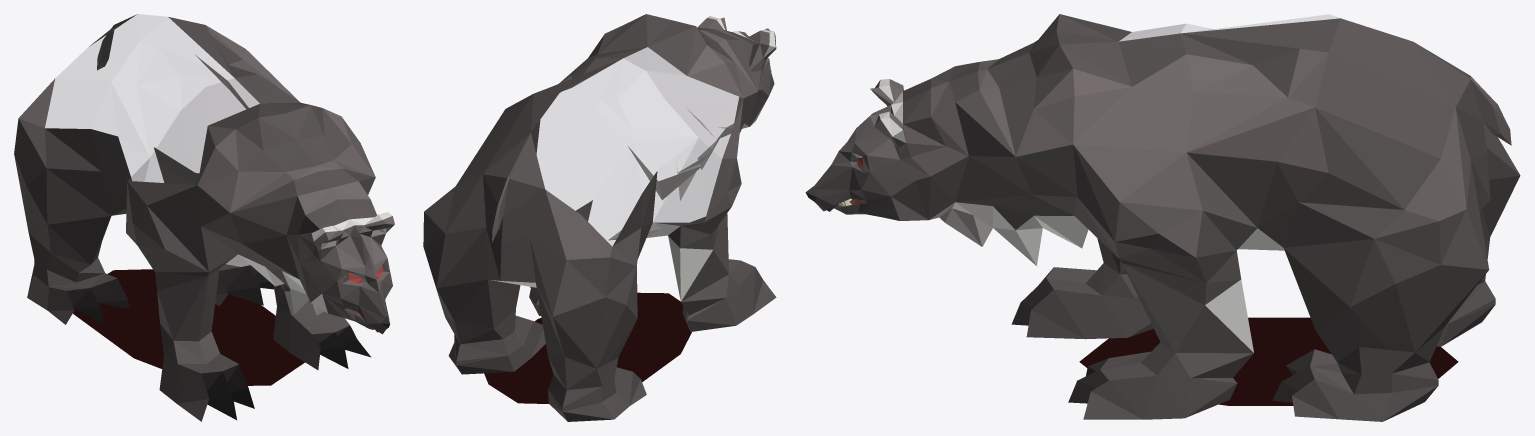
Rendered from callisto.gltf.
3 renders of one model, left to right at view 1: azimuth 30°, elevation 25°; view 2: azimuth 150°, elevation 25°; view 3: azimuth 270°, elevation 25°, orthographic. The views are drawn at different scales.
Bounding box in the file's own units: 194 × 255 × 473.
2 materials, 2 textured.
